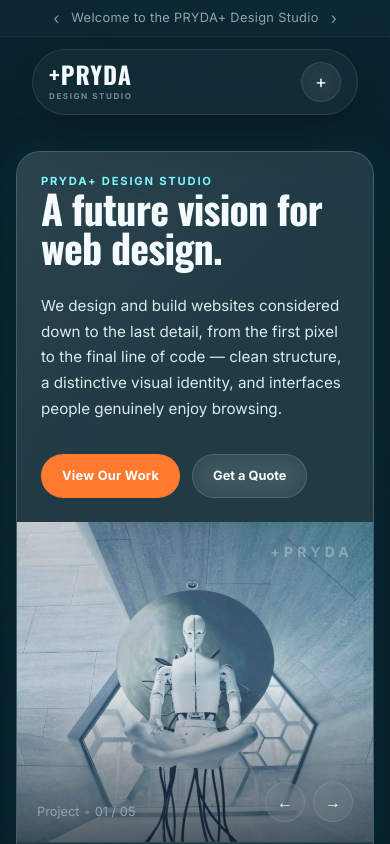
Test case: navigation › toggles the mobile menu button and closes it from a link
The image size is (390, 844).
Click the button named "Open menu" at (321, 82), box [301,62,341,102]
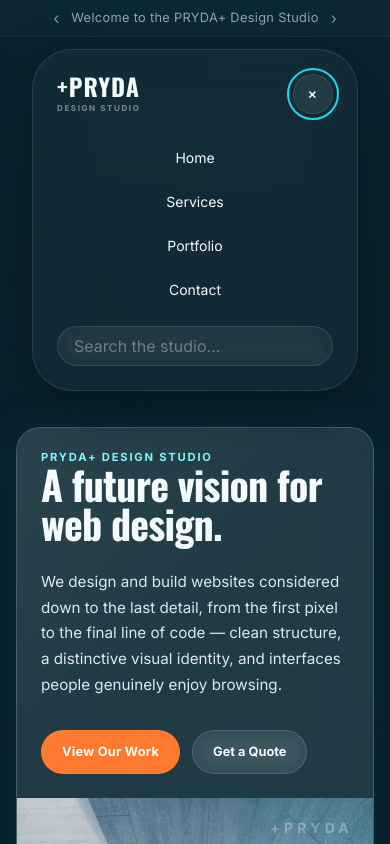
Expected: the button named "Close menu" is shown, [293,74,333,114]
Click the link "Services" at (195, 202), box [166,193,224,210]
(page scrolled)
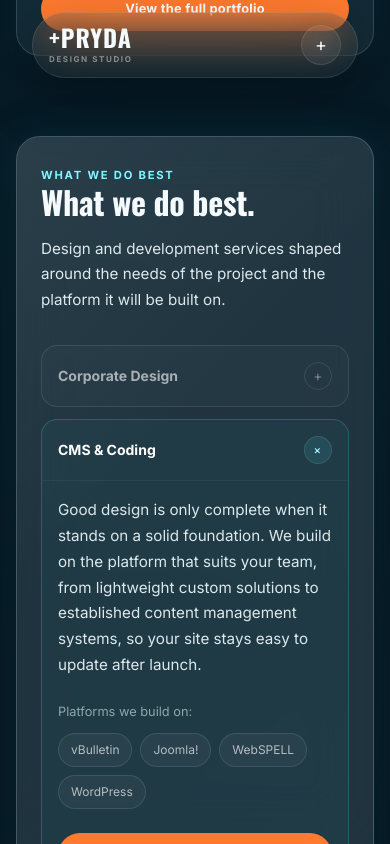
Expected: the button named "Open menu" is shown, [301,25,341,65]
